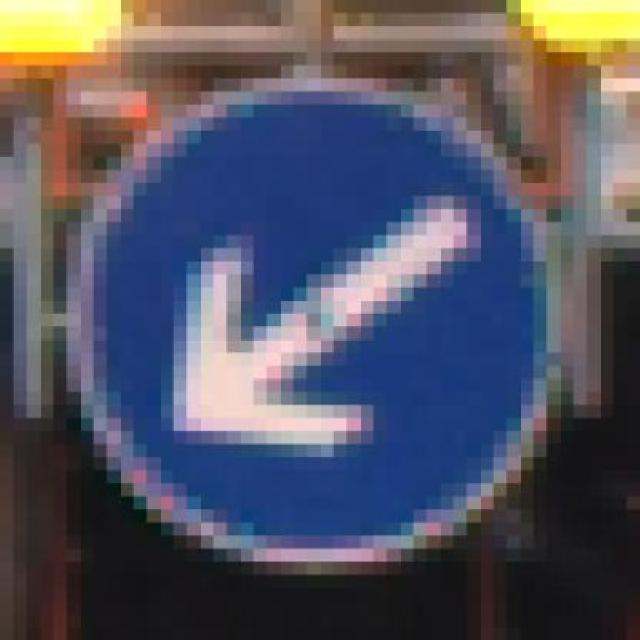Keep-Left: (39, 66, 587, 574)
